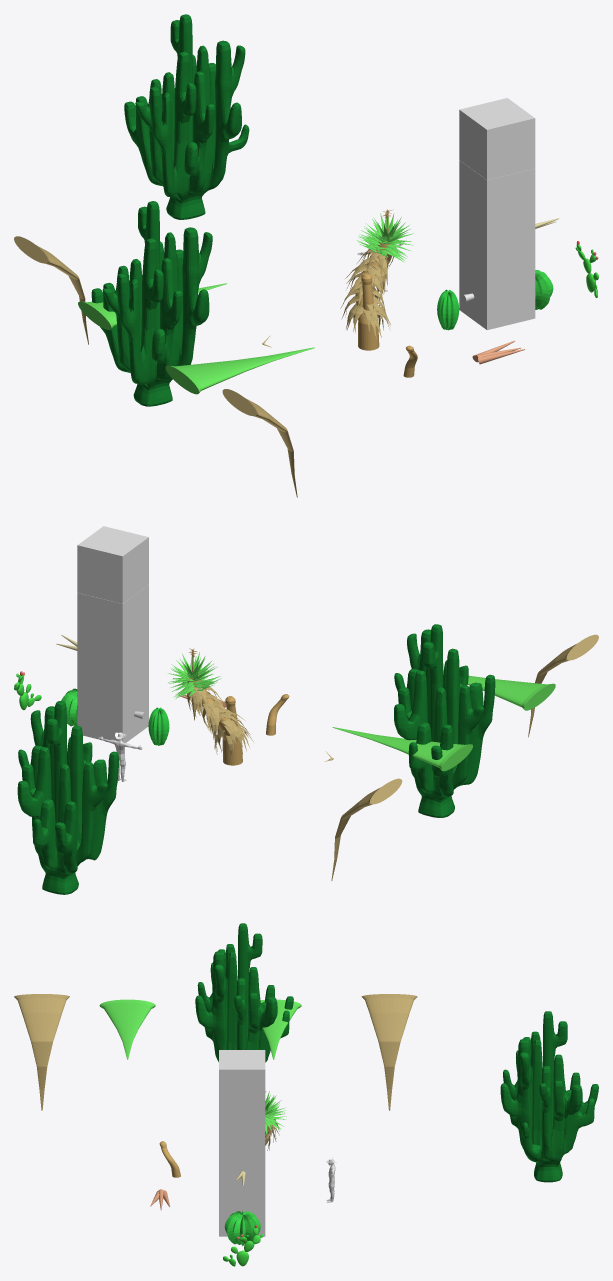
File: juca2.fbx
3 views of the same model, one above another, from view 1: azimuth 30°, elevation 25°; view 2: azimuth 150°, elevation 25°; view 3: azimuth 270°, elevation 25° (orthographic). The views are drawn at different scales.
Parts seen in each view (by area): view 1: Plane, Plane.001, Cube.006, Cube.005, Cube.004, Cube.003, leaf1, leaf2, leaf2.001, plant3, leaf1.001, Cactus4; view 2: Plane, Plane.001, Cube.006, Cube.004, Cube.005, Cube.003, leaf1.001, leaf1, leaf2.001, leaf2, plant3, Cactus4; view 3: Plane, Plane.001, Cube.006, leaf2.001, leaf2, Cube.005, Cube.004, leaf1, Cube.003, CactusBody.003, leaf1.001, nopal.
Boxes of the visible parts, bbox=[...] form: Plane: bbox=[124, 14, 249, 219]; Plane.001: bbox=[91, 201, 212, 406]; Cube.006: bbox=[459, 98, 535, 180]; Cube.005: bbox=[459, 160, 535, 230]; Cube.004: bbox=[459, 211, 535, 279]; Cube.003: bbox=[459, 260, 535, 330]; leaf1: bbox=[165, 347, 314, 394]; leaf2: bbox=[222, 389, 297, 497]; leaf2.001: bbox=[14, 236, 88, 344]; plant3: bbox=[356, 209, 393, 350]; leaf1.001: bbox=[78, 283, 226, 329]; Cactus4: bbox=[437, 289, 459, 330]; Plane: bbox=[17, 701, 118, 894]; Plane.001: bbox=[394, 624, 495, 817]; Cube.006: bbox=[77, 526, 148, 603]; Cube.004: bbox=[77, 631, 148, 697]; Cube.005: bbox=[77, 585, 148, 650]; Cube.003: bbox=[77, 679, 148, 742]; leaf1.001: bbox=[332, 727, 472, 771]; leaf1: bbox=[443, 672, 555, 710]; leaf2.001: bbox=[331, 778, 402, 880]; leaf2: bbox=[528, 634, 598, 737]; plant3: bbox=[187, 648, 242, 765]; Cactus4: bbox=[148, 707, 169, 745]; Plane: bbox=[500, 1011, 598, 1182]; Plane.001: bbox=[195, 923, 293, 1062]; Cube.006: bbox=[219, 1050, 265, 1111]; leaf2.001: bbox=[361, 994, 417, 1110]; leaf2: bbox=[14, 994, 69, 1110]; Cube.005: bbox=[219, 1111, 265, 1153]; Cube.004: bbox=[219, 1153, 265, 1194]; leaf1: bbox=[99, 999, 155, 1059]; Cube.003: bbox=[219, 1194, 265, 1236]; CactusBody.003: bbox=[224, 1211, 260, 1245]; leaf1.001: bbox=[260, 999, 301, 1059]; nopal: bbox=[223, 1228, 263, 1266].
Bounding box in the file's own units: 2046 × 863 × 2526.
